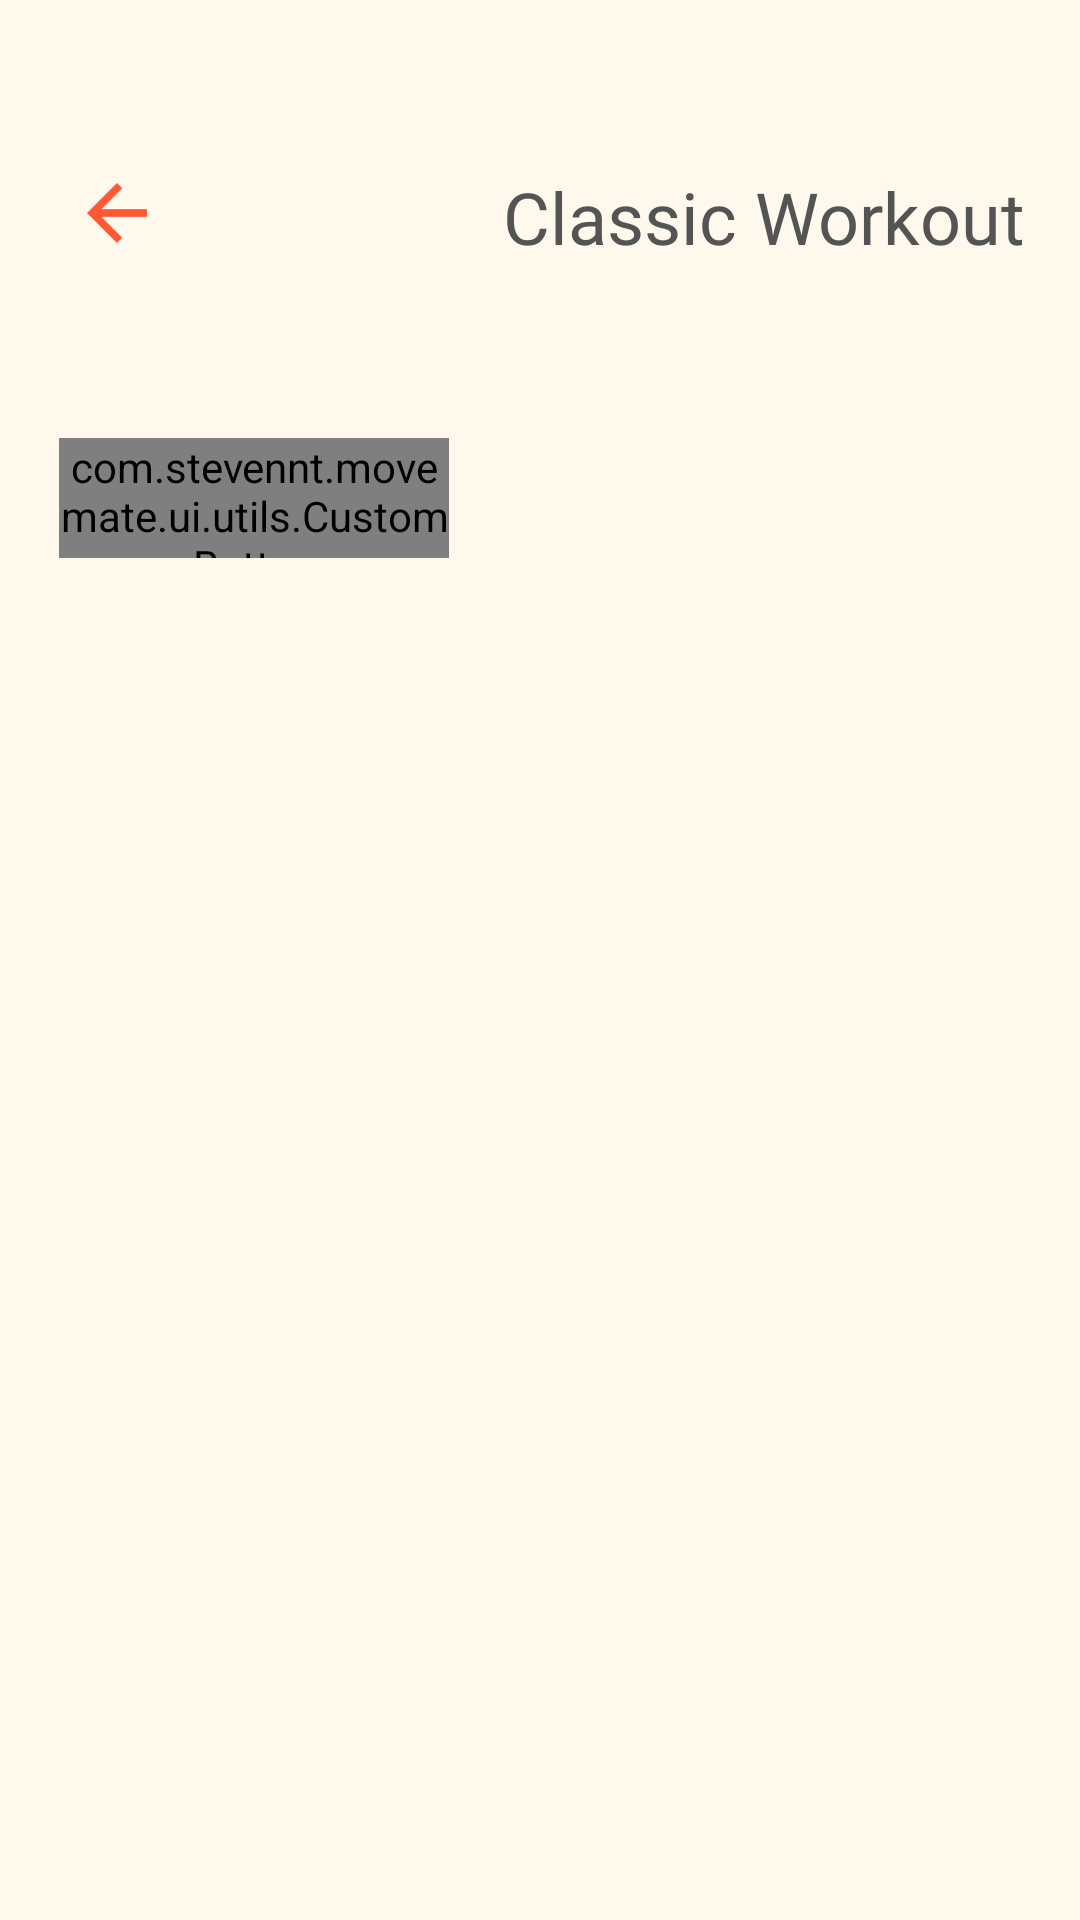

Screen size 1080w x 1920h. Icon name, then its box in pixels as (x1, y1, x2, y2):
arrow back: (87, 183, 147, 243)
